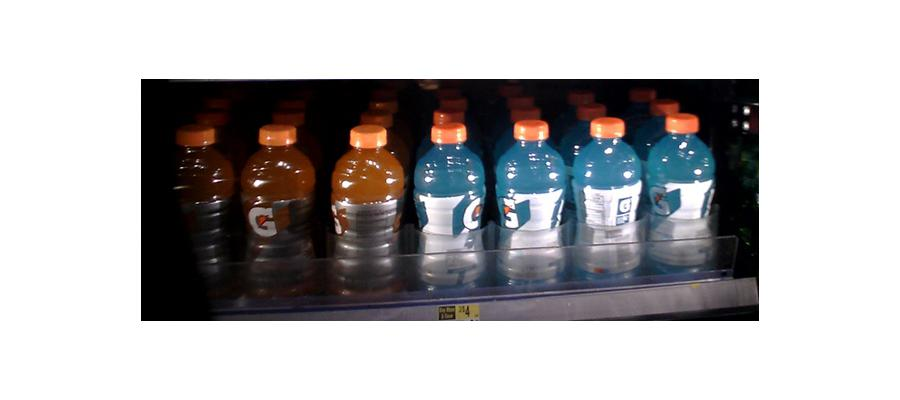bottle: (241, 120, 315, 306), (495, 118, 570, 293), (329, 125, 403, 299), (415, 118, 486, 297), (645, 113, 716, 279), (573, 120, 643, 285), (172, 127, 234, 300)
